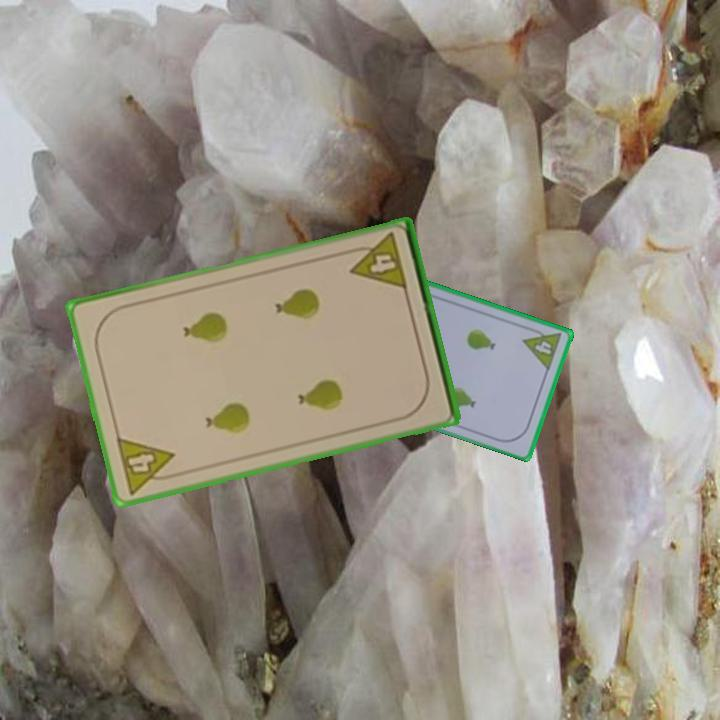4p: (112, 433, 182, 497), (343, 229, 410, 294), (520, 323, 564, 373)
